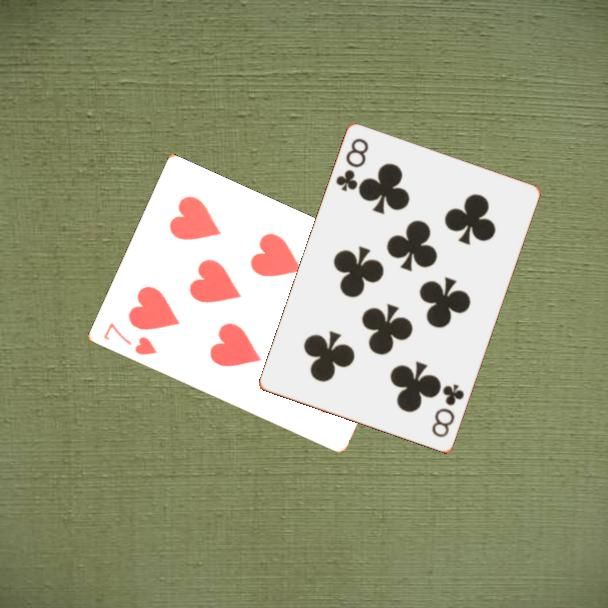c08: (332, 135, 372, 195), (428, 381, 467, 441)
h07: (99, 320, 159, 358)
